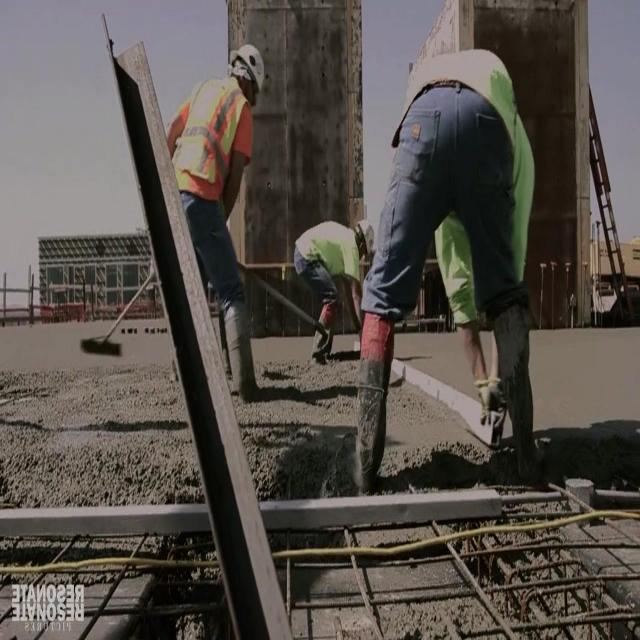Reflective-Jacket: (160, 74, 262, 218)
Safety-Helmet: (227, 33, 273, 102), (352, 210, 380, 266)
